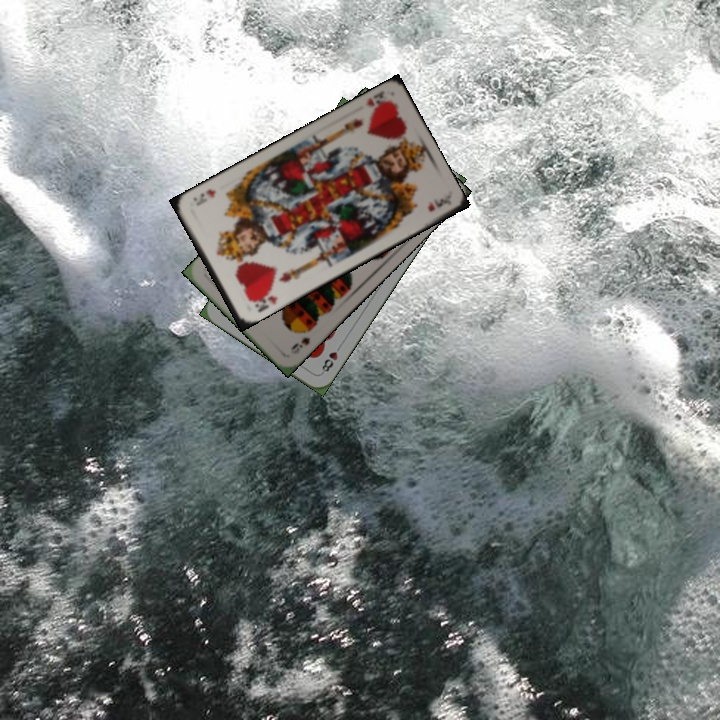H8: (317, 340, 344, 376)
HK: (245, 286, 280, 315), (362, 87, 390, 116)
S9: (286, 323, 316, 357)
